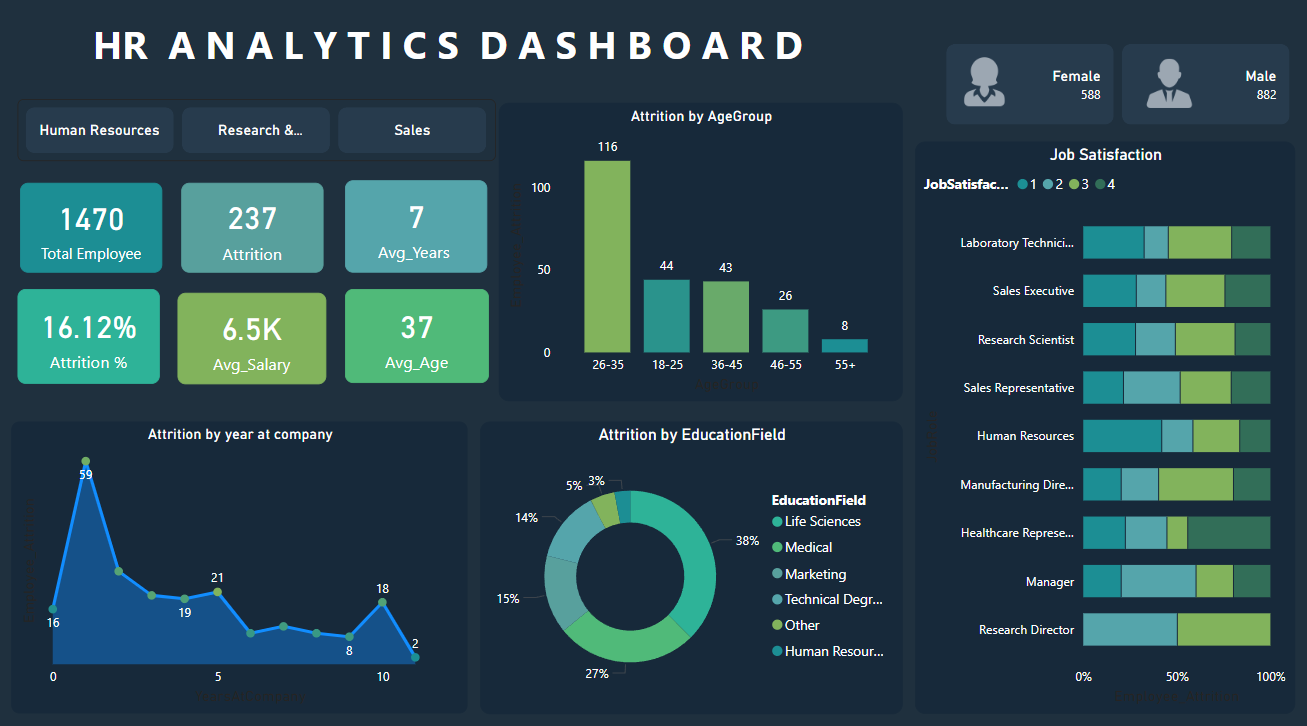

Layout of this report page (visuals, bound fields, positions):
{"tool":"powerbi","page":{"name":"Page 1","canvas":[1280,720],"ordinal":0},"visuals":[{"type":"image","box":[1112.8,58.7,62.4,57.5],"z":0},{"type":"image","box":[934.2,56.3,57.5,59.9],"z":1000},{"type":"card","fields":{"Values":["HR_Analytics.Attrition %"]},"box":[17.1,288.6,139.4,92.9],"z":2000},{"type":"card","fields":{"Values":["HR_Analytics.Employee_Attrition"]},"box":[177.6,184.6,139.4,88],"z":3000},{"type":"card","fields":{"Values":["HR_Analytics.employee_count"]},"box":[19.8,184.6,139.4,88],"z":4000},{"type":"card","title":"Avg years at company","fields":{"Values":["Avg(HR_Analytics.YearsAtCompany)"]},"box":[337.5,182.2,139.4,90.5],"z":5000},{"type":"card","fields":{"Values":["HR_Analytics.Avg_Salary"]},"box":[173.6,292.3,145.5,89.3],"z":6000},{"type":"card","fields":{"Values":["HR_Analytics.Avg_Age"]},"box":[337.5,288.6,140.6,91.7],"z":7000},{"type":"donutChart","title":"Attrition by EducationField","fields":{"Category":["HR_Analytics.EducationField"],"Y":["HR_Analytics.Employee_Attrition"]},"box":[469.6,418.2,413.3,286.1],"z":8000},{"type":"clusteredColumnChart","title":"Attrition by AgeGroup","fields":{"Category":["HR_Analytics.AgeGroup"],"Y":["HR_Analytics.Employee_Attrition"]},"box":[487.9,106.4,395,292.3],"z":9000},{"type":"hundredPercentStackedBarChart","title":" Job Satisfaction","fields":{"Y":["HR_Analytics.Employee_Attrition"],"Series":["HR_Analytics.JobSatisfaction"],"Category":["HR_Analytics.JobRole"]},"box":[894.7,144.1,371.9,559.9],"z":10000},{"type":"advancedSlicerVisual","fields":{"Values":["HR_Analytics.Gender"]},"box":[920.8,44,346.1,89.3],"z":11000},{"type":"advancedSlicerVisual","fields":{"Values":["HR_Analytics.Department"]},"box":[17.1,102.7,468.3,61.1],"z":12000},{"type":"textbox","box":[30.2,17.8,815.1,71.4],"z":13000},{"type":"areaChart","title":"Attrition by year at company","fields":{"Category":["HR_Analytics.YearsAtCompany"],"Y":["HR_Analytics.Employee_Attrition"]},"box":[11.4,418.2,446.7,285.5],"z":14000}]}

Visuals, with their boxes in screenshot pixels (x1, y1, x2, y2), scaled from the page's 1280x720 canvas onto the 1307x726 screenshot:
image: bbox(1136, 59, 1200, 117)
image: bbox(954, 57, 1013, 117)
card - HR_Analytics.Attrition %: bbox(17, 291, 160, 385)
card - HR_Analytics.Employee_Attrition: bbox(181, 186, 324, 275)
card - HR_Analytics.employee_count: bbox(20, 186, 163, 275)
"Avg years at company" card: bbox(345, 184, 487, 275)
card - HR_Analytics.Avg_Salary: bbox(177, 295, 326, 385)
card - HR_Analytics.Avg_Age: bbox(345, 291, 488, 383)
"Attrition by EducationField" donutChart: bbox(480, 422, 902, 710)
"Attrition by AgeGroup" clusteredColumnChart: bbox(498, 107, 902, 402)
" Job Satisfaction" hundredPercentStackedBarChart: bbox(914, 145, 1293, 710)
advancedSlicerVisual - HR_Analytics.Gender: bbox(940, 44, 1294, 134)
advancedSlicerVisual - HR_Analytics.Department: bbox(17, 104, 496, 165)
textbox: bbox(31, 18, 863, 90)
"Attrition by year at company" areaChart: bbox(12, 422, 468, 710)
